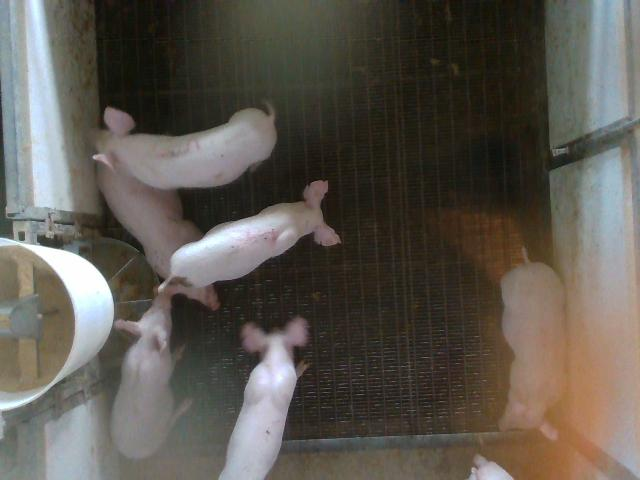pig-3: (91, 108, 276, 189)
pig-4: (499, 249, 565, 439)
pig-5: (159, 180, 339, 291)
